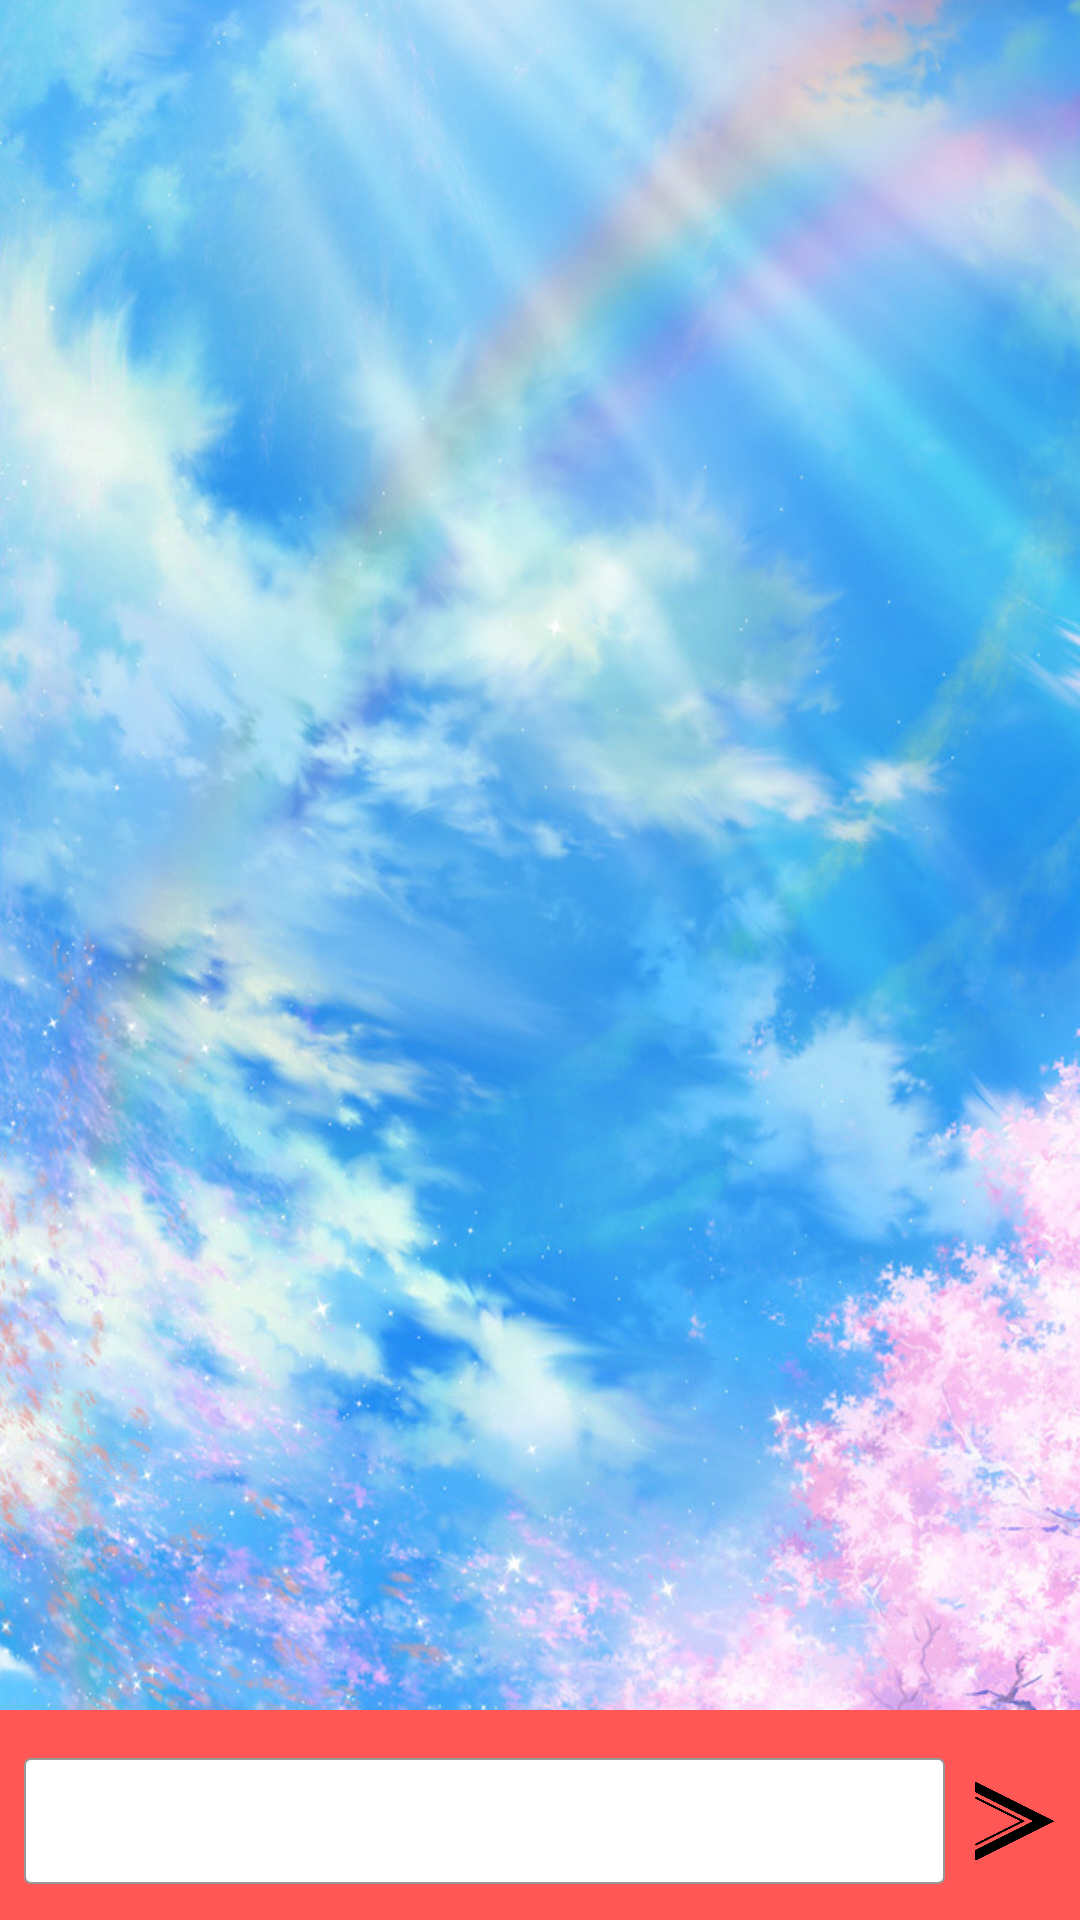

Locate icon controls on the screen. Image size 1080w x 1920h, boxes as (x1, y1, x2, y2).
send: (975, 1782, 1054, 1860)
